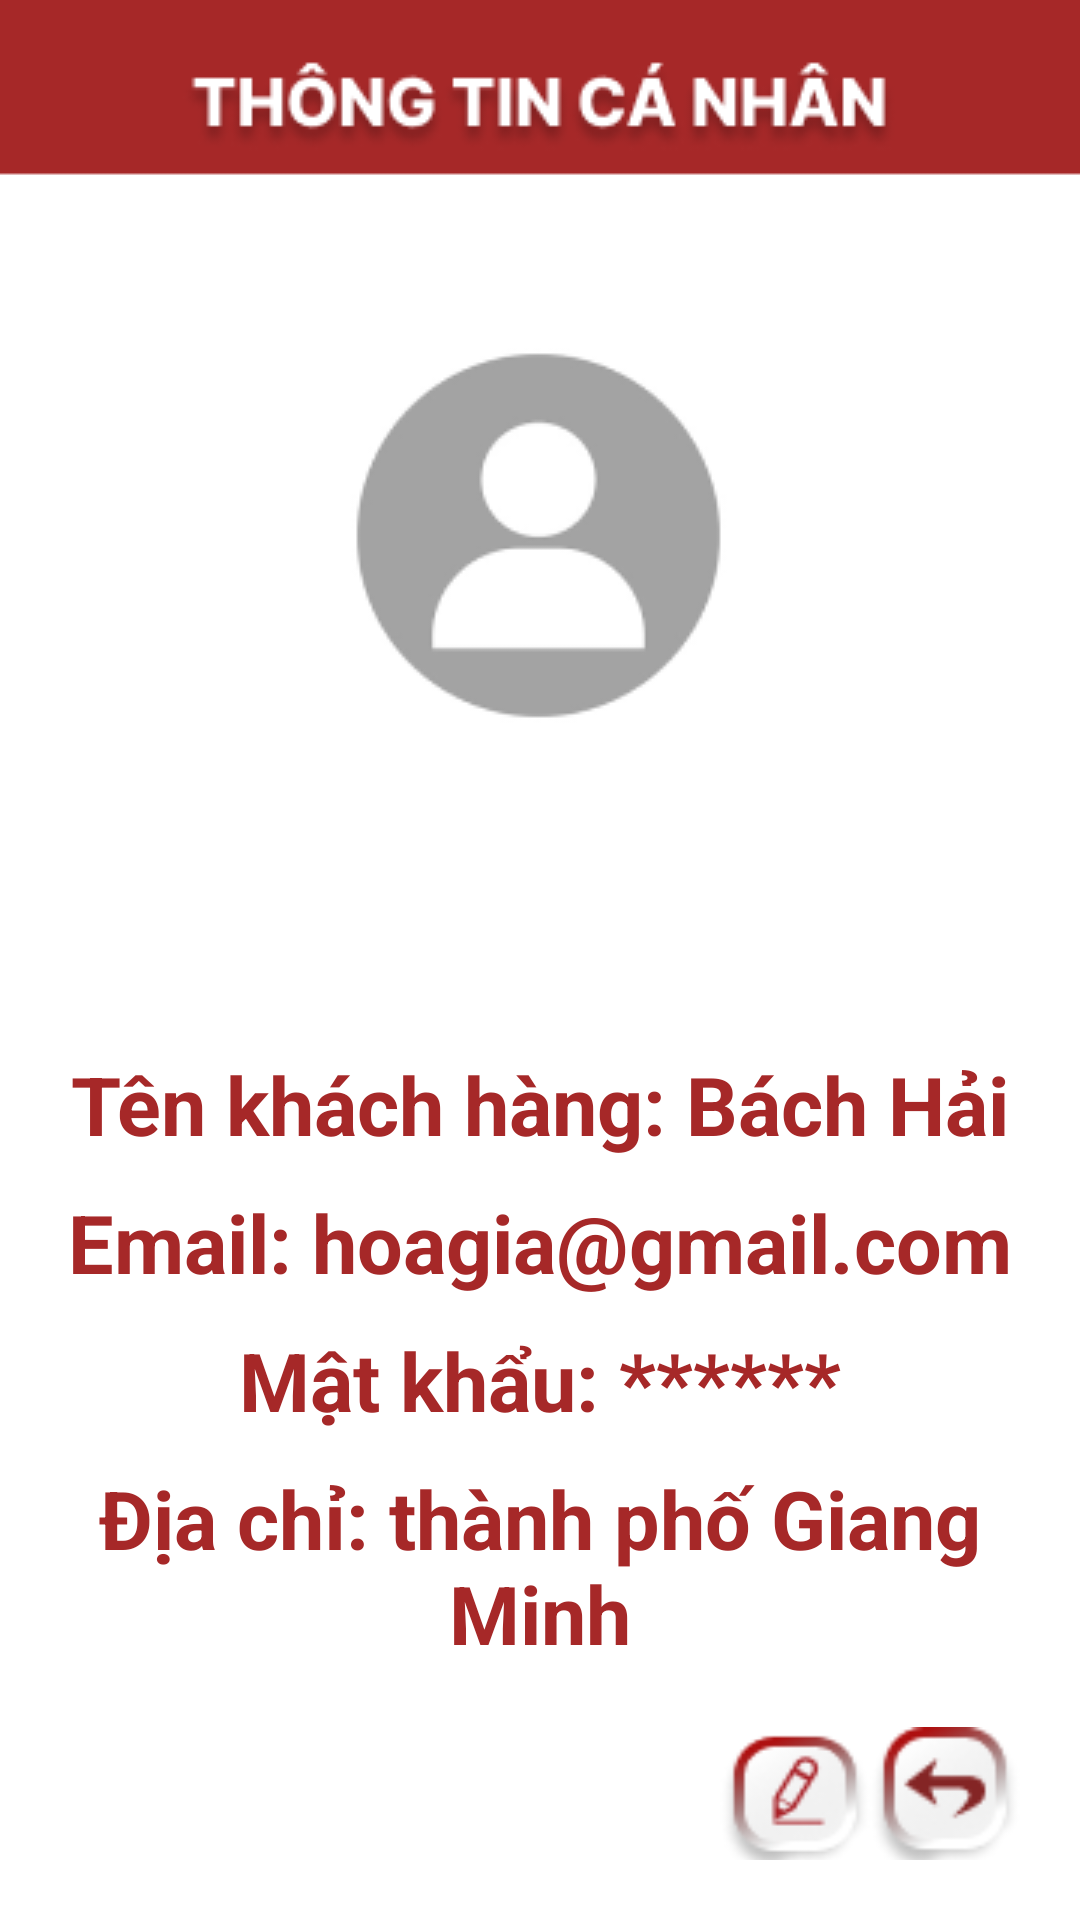

Screen size 1080 x 1920. Icon name, then its box in pixels as (x1, y1, x2, y2):
backthongtin: (877, 1727, 1013, 1860)
editthongtin: (727, 1735, 863, 1860)
